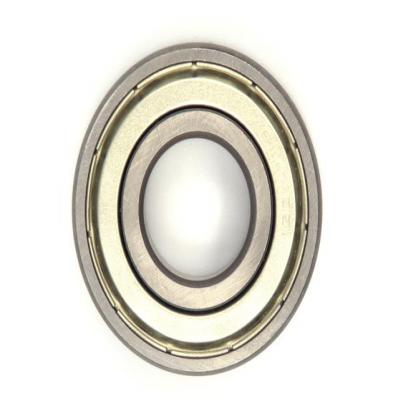FOD: (63, 37, 326, 378)
